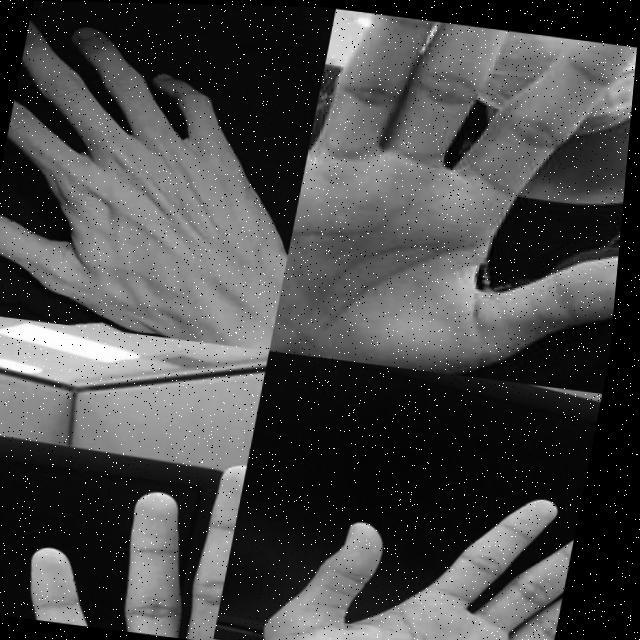no-gloves: (272, 5, 640, 389), (0, 4, 331, 349), (274, 458, 592, 640), (0, 433, 256, 640)
